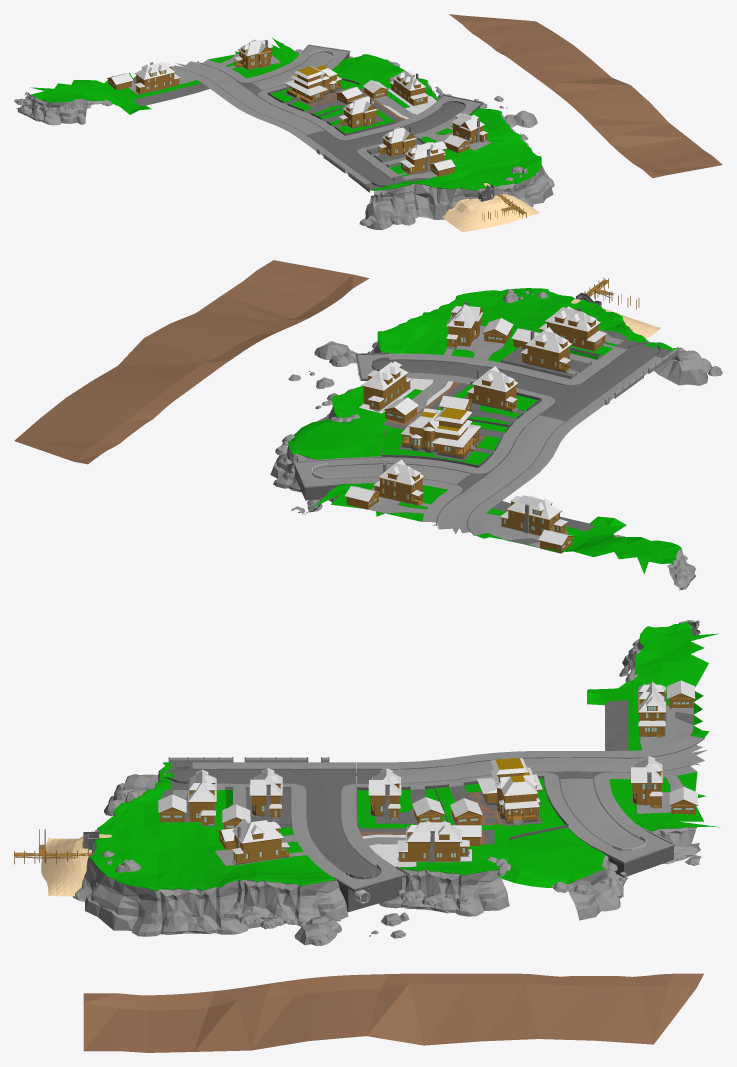
Rendered from brook_s2_10.FBX.
The picture shows the model from 3 angles, top to bottom: view 1: azimuth 30°, elevation 25°; view 2: azimuth 150°, elevation 25°; view 3: azimuth 270°, elevation 25°; orthographic projection. The views are drawn at different scales.
Parts seen in each view (by area): view 1: unnamed, null; view 2: unnamed, null; view 3: unnamed, null.
Part boxes in pixels (left/top/right/bottom): unnamed: left=14, top=14, right=630, bottom=231; null: left=426, top=85, right=722, bottom=215; unnamed: left=14, top=277, right=722, bottom=590; null: left=144, top=260, right=552, bottom=374; unnamed: left=14, top=620, right=719, bottom=1045; null: left=48, top=818, right=380, bottom=1052.
Bounding box in the file's own units: 323 × 35.07 × 259.
